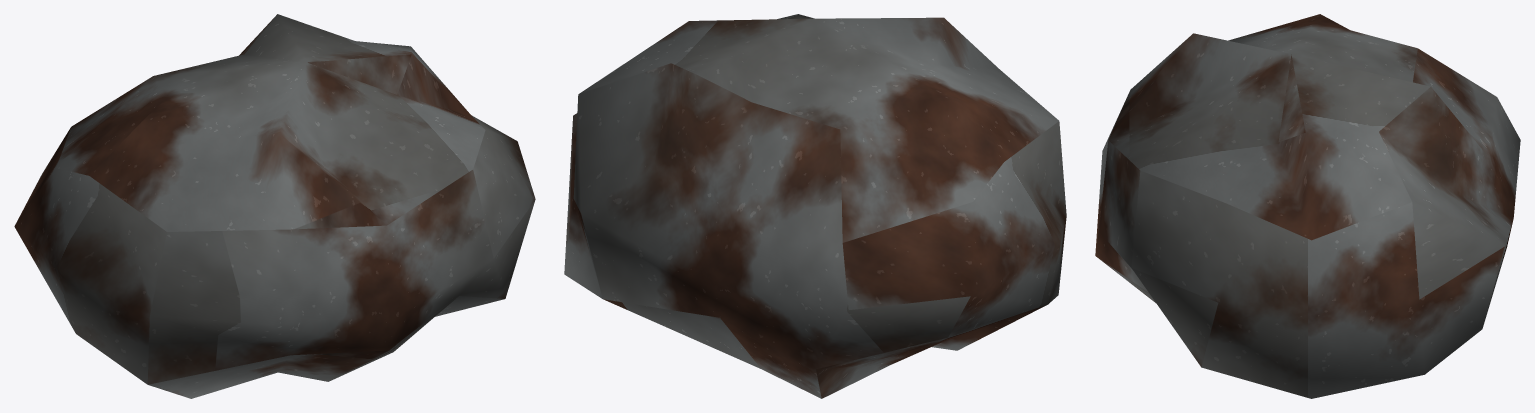
File: NT04_rocks_v3.glb
The picture shows the model from 3 angles, left to right: view 1: azimuth 30°, elevation 25°; view 2: azimuth 150°, elevation 25°; view 3: azimuth 270°, elevation 25°; orthographic projection. The views are drawn at different scales.
Parts seen in each view (by area): view 1: NT04_rocks_v3; view 2: NT04_rocks_v3; view 3: NT04_rocks_v3.
Boxes of the visible parts, x1,y1,x2,y2 form: NT04_rocks_v3: (14, 14, 535, 398); NT04_rocks_v3: (564, 14, 1066, 398); NT04_rocks_v3: (1095, 14, 1520, 398).
Bounding box in the file's own units: 1 × 0.6213 × 0.8008.
1 material, 1 textured.
